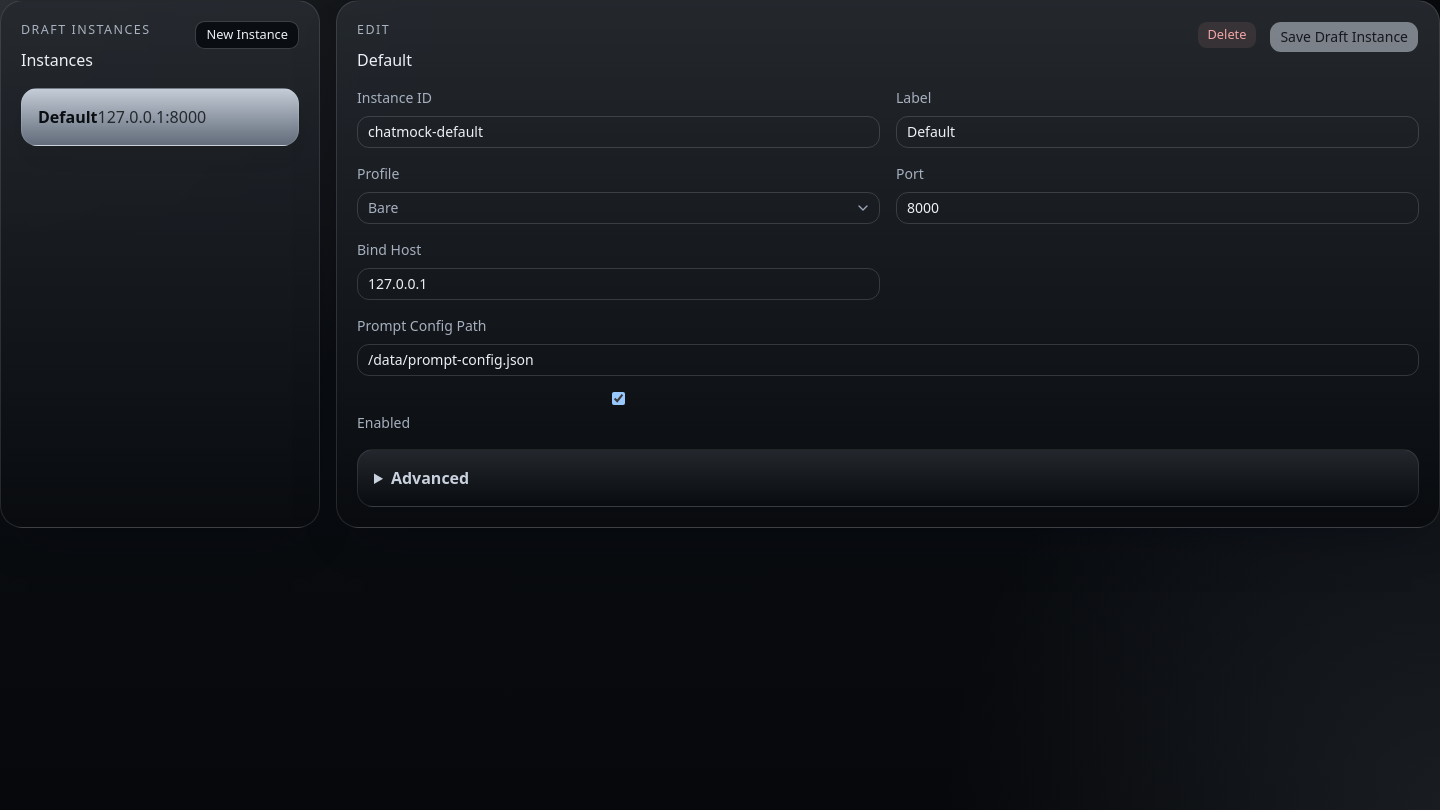
Scenario: admin config editor forms › blocks creating an instance when the required id is blank
Click the button "New Instance" at (247, 35), box [196, 21, 299, 49]
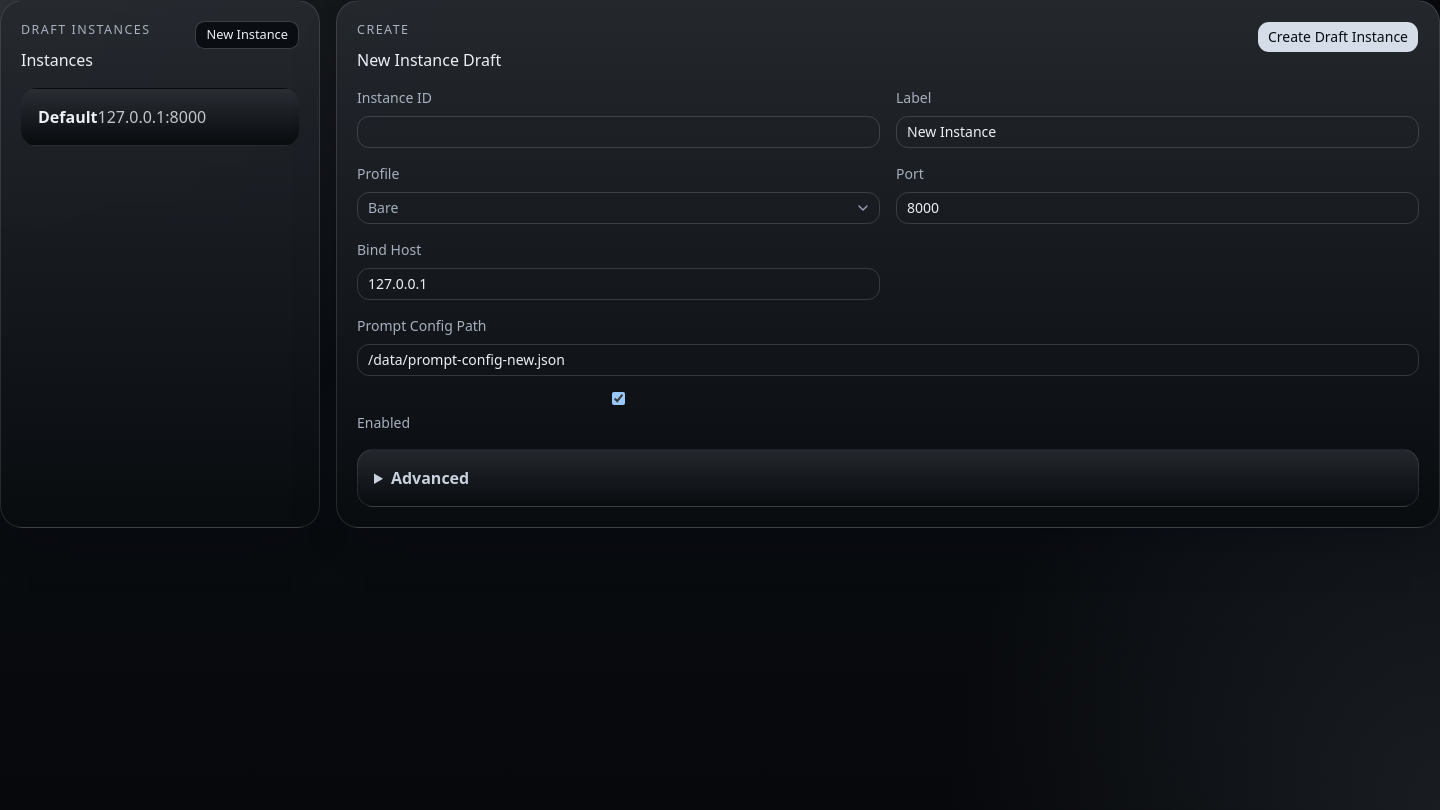
Click the button "Create Draft Instance" at (1338, 37), box [1257, 21, 1419, 53]
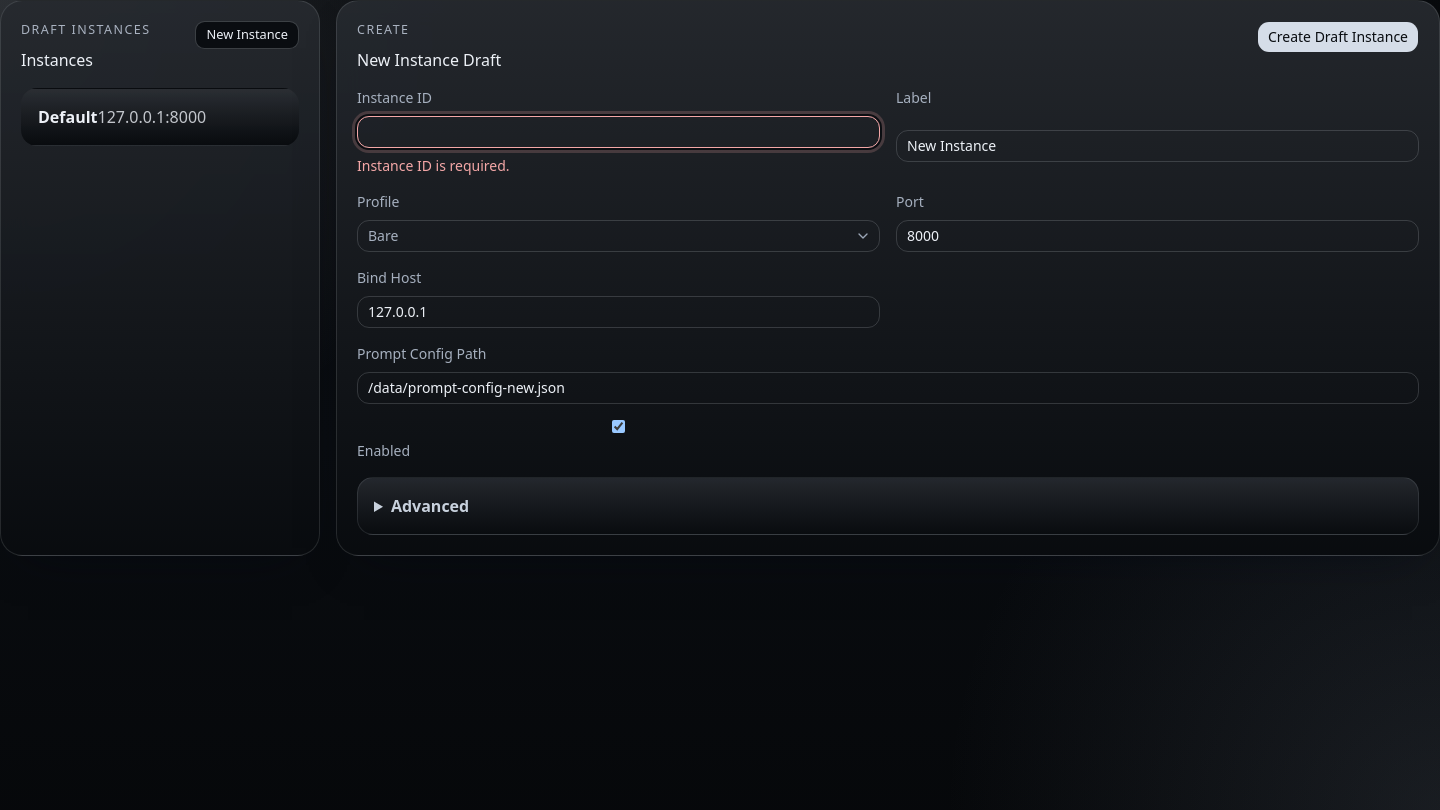
Expected: the text "Instance ID is required." is shown, [357, 156, 510, 175]
